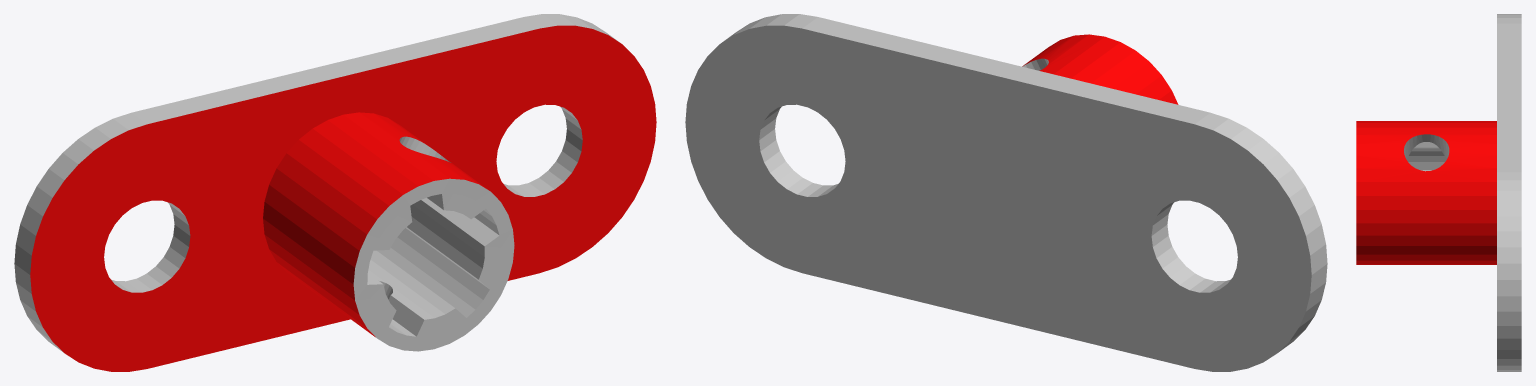
Rendered from Encaixe_caixa_stp_1_4.obj.
3 renders of one model, left to right at view 1: azimuth 30°, elevation 25°; view 2: azimuth 150°, elevation 25°; view 3: azimuth 270°, elevation 25°, orthographic. The views are drawn at different scales.
Visible parts, largest first — view 1: Object1; view 2: Object1; view 3: Object1.
Boxes of the visible parts, bbox=[...] form: Object1: bbox=[14, 14, 656, 371]; Object1: bbox=[685, 14, 1327, 371]; Object1: bbox=[1356, 14, 1521, 371].
Bounding box in the file's own units: 79.79 × 29.79 × 23.5.
